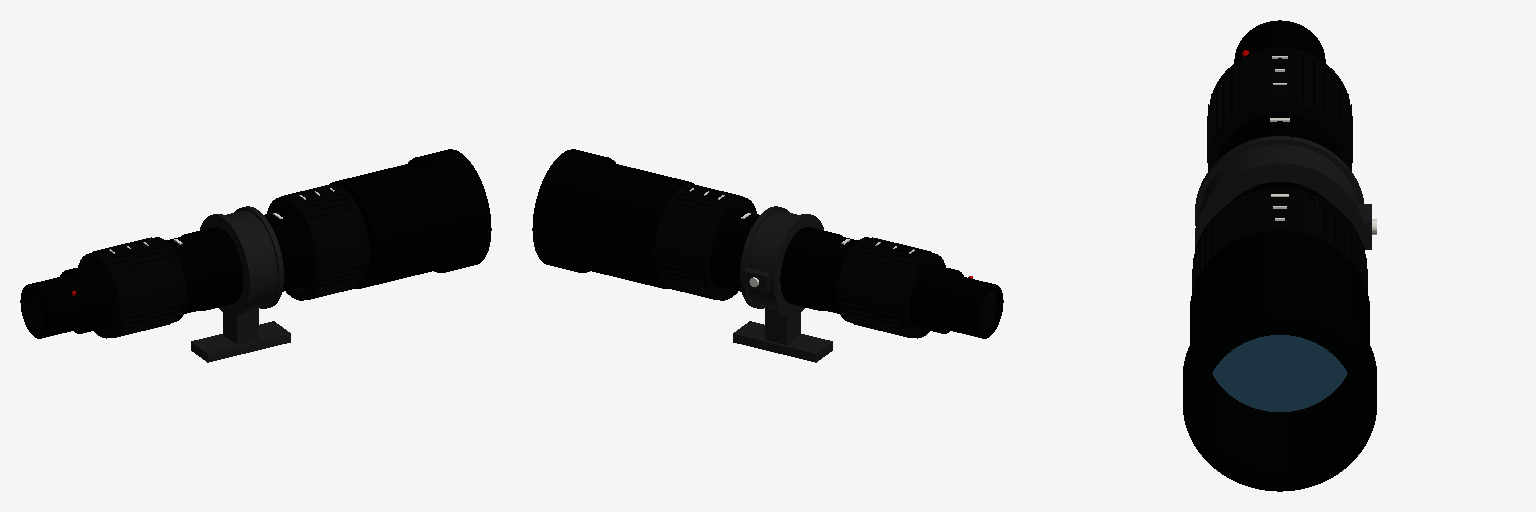
robot.urdf — telephoto_zoom_lens:
<robot name="telephoto_zoom_lens">
  <material name="satin_black">
    <color rgba="0.015 0.016 0.018 1" />
    </material>
  <material name="ribbed_rubber">
    <color rgba="0.035 0.036 0.038 1" />
    </material>
  <material name="graphite_metal">
    <color rgba="0.12 0.125 0.13 1" />
    </material>
  <material name="coated_glass">
    <color rgba="0.18 0.32 0.4 0.48" />
    </material>
  <material name="rear_glass">
    <color rgba="0.03 0.04 0.05 0.7" />
    </material>
  <material name="engraving_white">
    <color rgba="0.86 0.88 0.84 1" />
    </material>
  <material name="mount_red">
    <color rgba="0.7 0.04 0.03 1" />
    </material>
  <link name="barrel">
    <visual name="barrel_shell">
      <geometry>
        <mesh filename="assets/meshes/stepped_lens_barrel.obj" />
        </geometry>
      <material name="satin_black">
        <color rgba="0.015 0.016 0.018 1" />
        </material>
      </visual>
    <visual name="front_element">
      <origin xyz="0.302 0 0" rpy="0 1.5708 0" />
      <geometry>
        <cylinder radius="0.087" length="0.008" />
        </geometry>
      <material name="coated_glass">
        <color rgba="0.18 0.32 0.4 0.48" />
        </material>
      </visual>
    <visual name="rear_element">
      <origin xyz="-0.444 0 0" rpy="0 1.5708 0" />
      <geometry>
        <cylinder radius="0.041" length="0.006" />
        </geometry>
      <material name="rear_glass">
        <color rgba="0.03 0.04 0.05 0.7" />
        </material>
      </visual>
    <visual name="zoom_index">
      <origin xyz="-0.145 0 0.0718" rpy="0 0 0" />
      <geometry>
        <box size="0.006 0.022 0.0024" />
        </geometry>
      <material name="engraving_white">
        <color rgba="0.86 0.88 0.84 1" />
        </material>
      </visual>
    <visual name="focus_index">
      <origin xyz="0.07 0 0.0748" rpy="0 0 0" />
      <geometry>
        <box size="0.006 0.026 0.0024" />
        </geometry>
      <material name="engraving_white">
        <color rgba="0.86 0.88 0.84 1" />
        </material>
      </visual>
    <visual name="mount_dot">
      <origin xyz="-0.392 -0.039 0.039" rpy="0 0 0" />
      <geometry>
        <sphere radius="0.0045" />
        </geometry>
      <material name="mount_red">
        <color rgba="0.7 0.04 0.03 1" />
        </material>
      </visual>
    <collision name="barrel_shell">
      <geometry>
        <mesh filename="assets/meshes/stepped_lens_barrel.obj" />
        </geometry>
      </collision>
    <collision name="front_element">
      <origin xyz="0.302 0 0" rpy="0 1.5708 0" />
      <geometry>
        <cylinder radius="0.087" length="0.008" />
        </geometry>
      </collision>
    <collision name="rear_element">
      <origin xyz="-0.444 0 0" rpy="0 1.5708 0" />
      <geometry>
        <cylinder radius="0.041" length="0.006" />
        </geometry>
      </collision>
    <collision name="zoom_index">
      <origin xyz="-0.145 0 0.0718" rpy="0 0 0" />
      <geometry>
        <box size="0.006 0.022 0.0024" />
        </geometry>
      </collision>
    <collision name="focus_index">
      <origin xyz="0.07 0 0.0748" rpy="0 0 0" />
      <geometry>
        <box size="0.006 0.026 0.0024" />
        </geometry>
      </collision>
    <collision name="mount_dot">
      <origin xyz="-0.392 -0.039 0.039" rpy="0 0 0" />
      <geometry>
        <sphere radius="0.0045" />
        </geometry>
      </collision>
    </link>
  <link name="zoom_ring">
    <visual name="zoom_grip">
      <geometry>
        <mesh filename="assets/meshes/zoom_ring_ribbed.obj" />
        </geometry>
      <material name="ribbed_rubber">
        <color rgba="0.035 0.036 0.038 1" />
        </material>
      </visual>
    <visual name="zoom_mark_m0_042">
      <origin xyz="-0.042 0 0.084" rpy="0 0 0" />
      <geometry>
        <box size="0.003 0.018 0.002" />
        </geometry>
      <material name="engraving_white">
        <color rgba="0.86 0.88 0.84 1" />
        </material>
      </visual>
    <visual name="zoom_mark_m0_006">
      <origin xyz="-0.006 0 0.084" rpy="0 0 0" />
      <geometry>
        <box size="0.003 0.012 0.002" />
        </geometry>
      <material name="engraving_white">
        <color rgba="0.86 0.88 0.84 1" />
        </material>
      </visual>
    <visual name="zoom_mark_0_030">
      <origin xyz="0.03 0 0.084" rpy="0 0 0" />
      <geometry>
        <box size="0.003 0.016 0.002" />
        </geometry>
      <material name="engraving_white">
        <color rgba="0.86 0.88 0.84 1" />
        </material>
      </visual>
    <collision name="zoom_grip">
      <geometry>
        <mesh filename="assets/meshes/zoom_ring_ribbed.obj" />
        </geometry>
      </collision>
    <collision name="zoom_mark_m0_042">
      <origin xyz="-0.042 0 0.084" rpy="0 0 0" />
      <geometry>
        <box size="0.003 0.018 0.002" />
        </geometry>
      </collision>
    <collision name="zoom_mark_m0_006">
      <origin xyz="-0.006 0 0.084" rpy="0 0 0" />
      <geometry>
        <box size="0.003 0.012 0.002" />
        </geometry>
      </collision>
    <collision name="zoom_mark_0_030">
      <origin xyz="0.03 0 0.084" rpy="0 0 0" />
      <geometry>
        <box size="0.003 0.016 0.002" />
        </geometry>
      </collision>
    </link>
  <link name="focus_ring">
    <visual name="focus_grip">
      <geometry>
        <mesh filename="assets/meshes/focus_ring_ribbed.obj" />
        </geometry>
      <material name="ribbed_rubber">
        <color rgba="0.035 0.036 0.038 1" />
        </material>
      </visual>
    <visual name="focus_mark_0">
      <origin xyz="-0.032 0 0.101" rpy="0 0 0" />
      <geometry>
        <box size="0.003 0.02 0.002" />
        </geometry>
      <material name="engraving_white">
        <color rgba="0.86 0.88 0.84 1" />
        </material>
      </visual>
    <visual name="focus_mark_1">
      <origin xyz="0 0 0.101" rpy="0 0 0" />
      <geometry>
        <box size="0.003 0.016 0.002" />
        </geometry>
      <material name="engraving_white">
        <color rgba="0.86 0.88 0.84 1" />
        </material>
      </visual>
    <visual name="focus_mark_2">
      <origin xyz="0.032 0 0.101" rpy="0 0 0" />
      <geometry>
        <box size="0.003 0.012 0.002" />
        </geometry>
      <material name="engraving_white">
        <color rgba="0.86 0.88 0.84 1" />
        </material>
      </visual>
    <collision name="focus_grip">
      <geometry>
        <mesh filename="assets/meshes/focus_ring_ribbed.obj" />
        </geometry>
      </collision>
    <collision name="focus_mark_0">
      <origin xyz="-0.032 0 0.101" rpy="0 0 0" />
      <geometry>
        <box size="0.003 0.02 0.002" />
        </geometry>
      </collision>
    <collision name="focus_mark_1">
      <origin xyz="0 0 0.101" rpy="0 0 0" />
      <geometry>
        <box size="0.003 0.016 0.002" />
        </geometry>
      </collision>
    <collision name="focus_mark_2">
      <origin xyz="0.032 0 0.101" rpy="0 0 0" />
      <geometry>
        <box size="0.003 0.012 0.002" />
        </geometry>
      </collision>
    </link>
  <link name="tripod_collar">
    <visual name="collar_foot">
      <geometry>
        <mesh filename="assets/meshes/tripod_collar_foot.obj" />
        </geometry>
      <material name="graphite_metal">
        <color rgba="0.12 0.125 0.13 1" />
        </material>
      </visual>
    <visual name="clamp_screw">
      <origin xyz="0 0.107 0" rpy="1.5708 0 0" />
      <geometry>
        <cylinder radius="0.009" length="0.006" />
        </geometry>
      <material name="engraving_white">
        <color rgba="0.86 0.88 0.84 1" />
        </material>
      </visual>
    <visual name="tripod_socket">
      <origin xyz="0 0 -0.1765" rpy="0 0 0" />
      <geometry>
        <cylinder radius="0.012" length="0.004" />
        </geometry>
      <material name="satin_black">
        <color rgba="0.015 0.016 0.018 1" />
        </material>
      </visual>
    <collision name="collar_foot">
      <geometry>
        <mesh filename="assets/meshes/tripod_collar_foot.obj" />
        </geometry>
      </collision>
    <collision name="clamp_screw">
      <origin xyz="0 0.107 0" rpy="1.5708 0 0" />
      <geometry>
        <cylinder radius="0.009" length="0.006" />
        </geometry>
      </collision>
    <collision name="tripod_socket">
      <origin xyz="0 0 -0.1765" rpy="0 0 0" />
      <geometry>
        <cylinder radius="0.012" length="0.004" />
        </geometry>
      </collision>
    </link>
  <joint name="barrel_to_zoom_ring" type="revolute">
    <origin xyz="-0.245 0 0" rpy="0 0 0" />
    <parent link="barrel" />
    <child link="zoom_ring" />
    <axis xyz="1 0 0" />
    <limit effort="0.7" velocity="3.5" lower="-0.663225" upper="1.6057" />
    </joint>
  <joint name="barrel_to_focus_ring" type="revolute">
    <origin xyz="0.155 0 0" rpy="0 0 0" />
    <parent link="barrel" />
    <child link="focus_ring" />
    <axis xyz="1 0 0" />
    <limit effort="0.45" velocity="4" lower="-1.8326" upper="1.8326" />
    </joint>
  <joint name="barrel_to_tripod_collar" type="continuous">
    <origin xyz="-0.01 0 0" rpy="0 0 0" />
    <parent link="barrel" />
    <child link="tripod_collar" />
    <axis xyz="1 0 0" />
    <limit effort="2" velocity="2.5" />
    </joint>
  </robot>

--- What the picture shows (computed from the rendered views, not written in the file) ---
3 views of the same robot in one strip: view 1: azimuth 30°, elevation 25°; view 2: azimuth 150°, elevation 25°; view 3: azimuth 270°, elevation 25° (orthographic).
Robot: telephoto_zoom_lens — 4 links, 3 joints (2 revolute, 1 continuous); root link barrel; default pose: every joint at zero.
Visible links, largest first — view 1: barrel, tripod_collar, zoom_ring, focus_ring; view 2: barrel, tripod_collar, zoom_ring, focus_ring; view 3: barrel, zoom_ring, tripod_collar, focus_ring.
Boxes of the visible links, x1,y1,x2,y2 form: barrel: (20,149,491,338); tripod_collar: (191,206,290,362); zoom_ring: (78,237,186,338); focus_ring: (267,184,369,300); barrel: (532,149,1003,338); tripod_collar: (733,206,832,362); zoom_ring: (837,237,945,338); focus_ring: (654,184,756,300); barrel: (1183,20,1376,491); zoom_ring: (1207,48,1352,170); tripod_collar: (1195,136,1376,249); focus_ring: (1192,189,1367,291).
Size in the robot's own frame: 0.921 by 0.222 by 0.2895 metres.
4 mesh visuals loaded from 4 distinct referenced files (4 OBJ).
